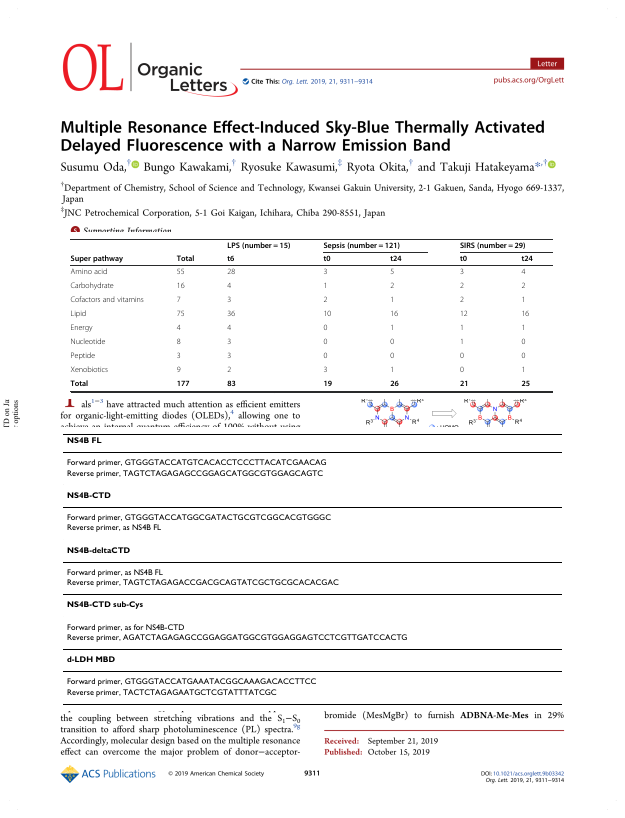borderless: (62, 432, 562, 704), (69, 237, 552, 391)
cell: (65, 633, 408, 643), (65, 578, 339, 588), (65, 513, 332, 523), (65, 469, 324, 479), (65, 459, 327, 468), (65, 678, 317, 687), (65, 688, 277, 698), (65, 623, 185, 633), (65, 568, 163, 578), (65, 524, 162, 533), (70, 295, 145, 305), (322, 241, 401, 250), (65, 601, 144, 610), (65, 546, 131, 556), (459, 241, 526, 250), (226, 241, 291, 250), (70, 254, 124, 264), (65, 491, 111, 501), (70, 281, 115, 291), (65, 656, 115, 665), (70, 365, 109, 375), (70, 267, 108, 277), (70, 337, 106, 347), (65, 437, 102, 446), (70, 351, 96, 361), (70, 323, 93, 333), (176, 254, 195, 264), (70, 379, 89, 389), (70, 309, 87, 319), (389, 254, 403, 264), (520, 254, 534, 264), (176, 379, 190, 389), (226, 379, 237, 389), (322, 379, 333, 389), (389, 379, 400, 389), (520, 379, 531, 389), (226, 267, 236, 277), (226, 309, 236, 319), (322, 309, 332, 319), (389, 309, 399, 319), (459, 309, 469, 319), (520, 309, 530, 319), (459, 379, 469, 389), (226, 254, 235, 264), (322, 254, 331, 264), (459, 254, 468, 264), (176, 267, 185, 277), (176, 281, 185, 291), (176, 309, 185, 319), (322, 267, 328, 277), (389, 267, 395, 277), (459, 267, 465, 277), (520, 267, 526, 277), (226, 281, 232, 291), (322, 281, 328, 291), (389, 281, 395, 291), (459, 281, 465, 291), (520, 281, 526, 291), (176, 295, 182, 305), (226, 295, 232, 305), (322, 295, 328, 305), (389, 295, 395, 305), (459, 295, 465, 305), (520, 295, 526, 305), (176, 323, 182, 333), (226, 323, 232, 333), (322, 323, 328, 333), (389, 323, 395, 333), (459, 323, 465, 333), (520, 323, 526, 333), (176, 337, 182, 347), (226, 337, 232, 347), (322, 337, 328, 347), (389, 337, 395, 347), (459, 337, 465, 347), (520, 337, 526, 347), (176, 351, 182, 361), (226, 351, 232, 361), (322, 351, 328, 361), (389, 351, 395, 361), (459, 351, 465, 361), (520, 351, 526, 361), (176, 365, 182, 375), (226, 365, 232, 375), (322, 365, 328, 375), (389, 365, 395, 375), (459, 365, 465, 375), (520, 365, 526, 375)
